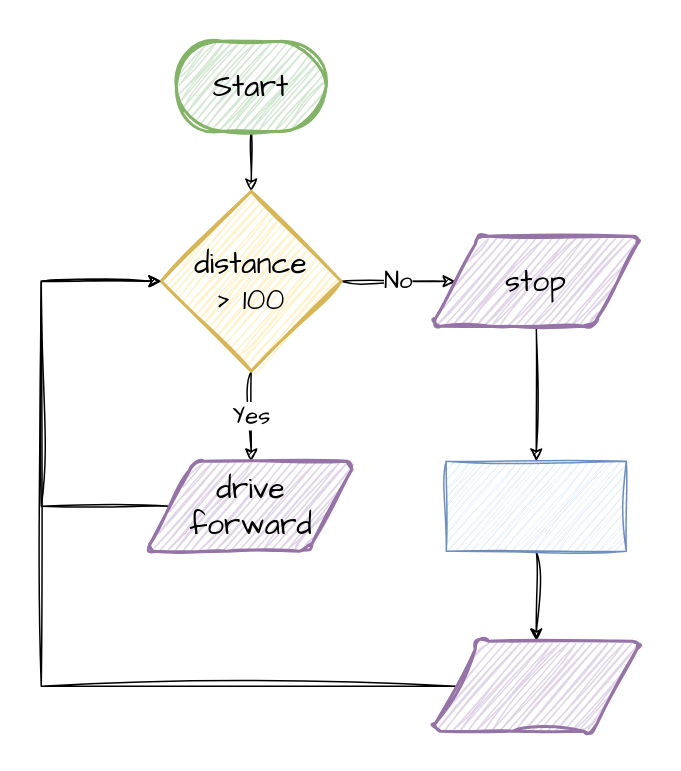
Image size: 681x771. Some labels were removed from this diagram. Each missing label, with the centre of its shape:
"get random angle" goes at point 535,505.
"turn angle" goes at point 535,685.
